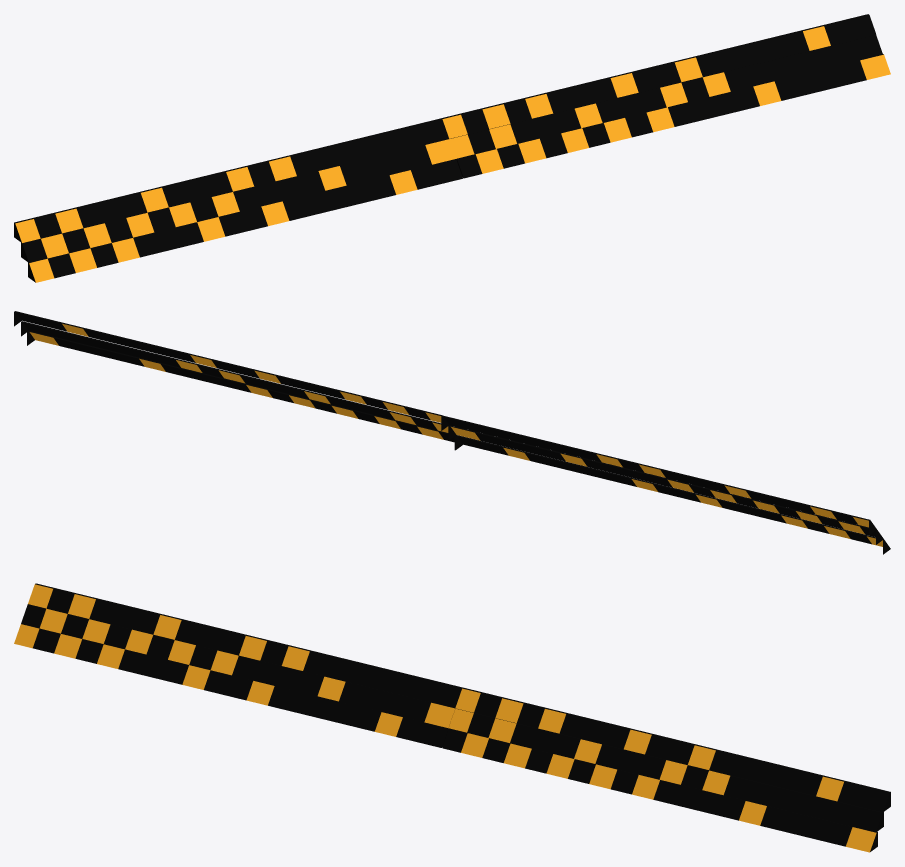
Rendered from StableRoof.fbx.
3 views of the same model, one above another, from view 1: azimuth 30°, elevation 25°; view 2: azimuth 150°, elevation 25°; view 3: azimuth 330°, elevation 25° (orthographic).
Visible parts, largest first — view 1: Cube; view 2: Cube; view 3: Cube.
Part boxes in pixels (bbox=[...]): Cube: bbox=[14, 14, 890, 282]; Cube: bbox=[14, 311, 890, 554]; Cube: bbox=[14, 583, 890, 852].
Size of the model in its own units: 12161 by 604 by 542.
